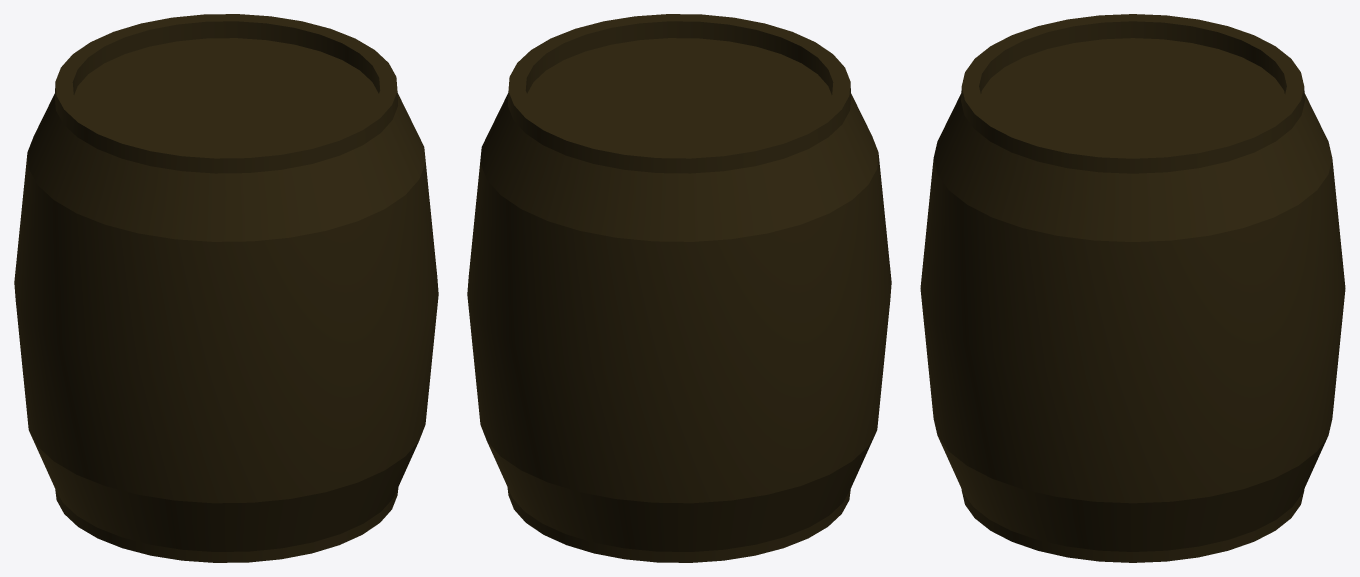
The model's file is Barrel.fbx.
The picture shows the model from 3 angles, left to right: view 1: azimuth 30°, elevation 25°; view 2: azimuth 150°, elevation 25°; view 3: azimuth 270°, elevation 25°; orthographic projection.
Parts seen in each view (by area): view 1: Barrel; view 2: Barrel; view 3: Barrel.
Boxes of the visible parts, x1,y1,x2,y2 form: Barrel: (14,14,438,562); Barrel: (467,14,891,562); Barrel: (920,14,1345,562).
Bounding box in the file's own units: 191 × 200 × 191.
